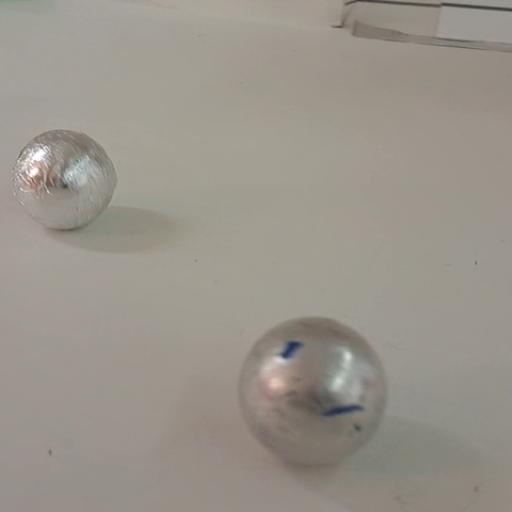alive: (234, 313, 394, 473), (10, 129, 118, 232)
